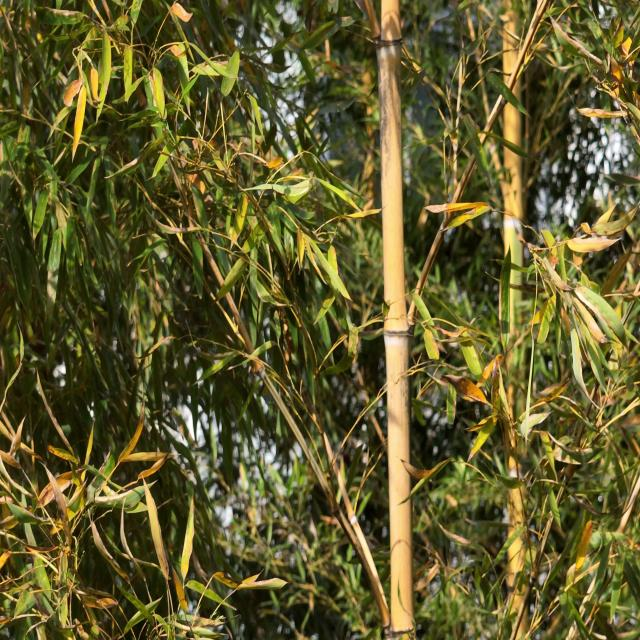Bamboo-shoots: (381, 0, 416, 640)
